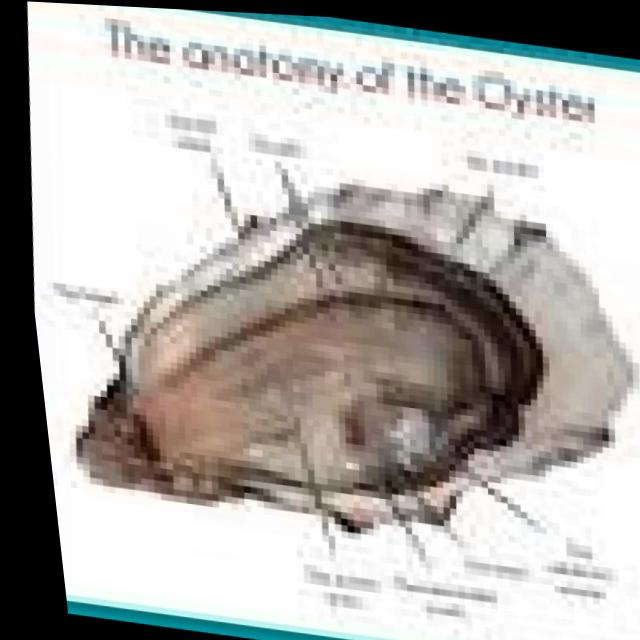Oyster-Open: (76, 177, 632, 530)
